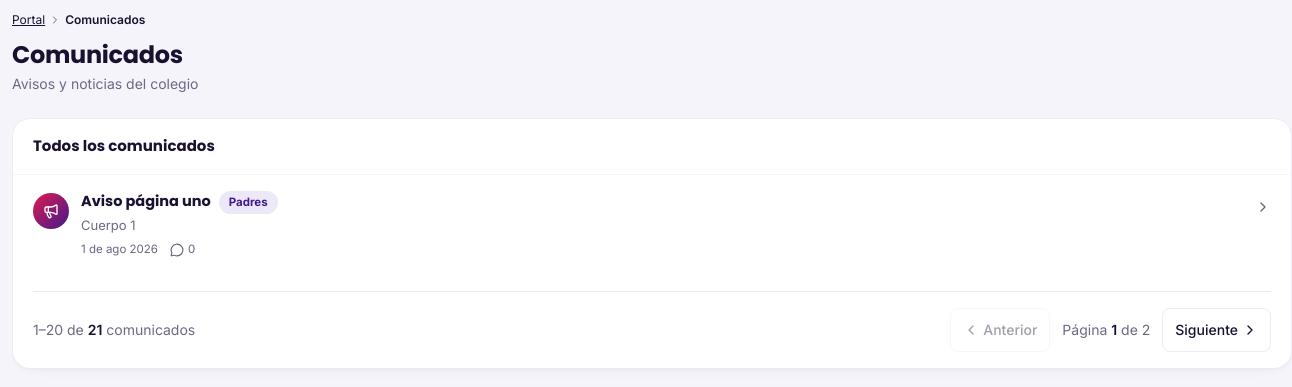
Scenario: ComunicadosPage › pages through announcements with Siguiente
Expected: the text "Aviso página uno" is shown, x1=81 y1=191 x2=211 y2=213
What coordinates should you click on to do the following:
click the button "Siguiente"
I would click on:
 (1217, 330)
Its box is x1=1162 y1=308 x2=1271 y2=352.
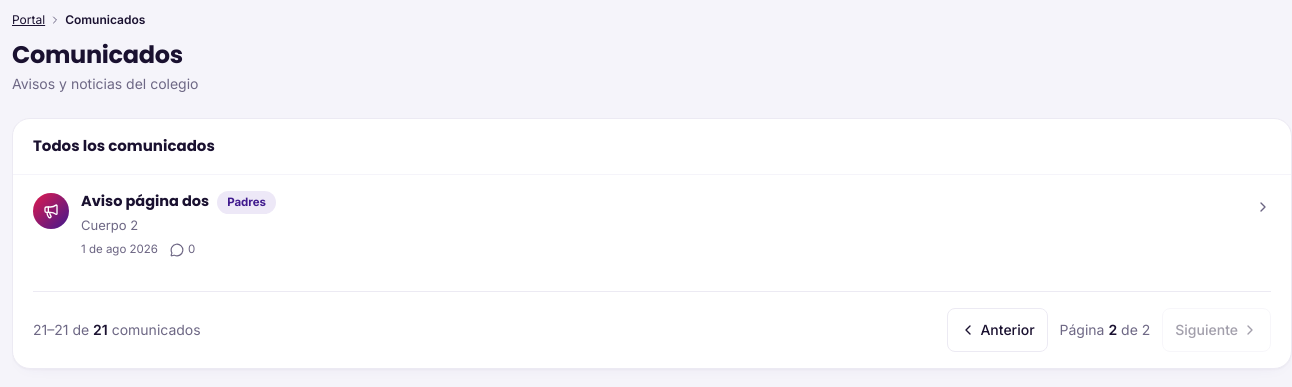
Expected: the text "Aviso página dos" is shown, x1=81 y1=191 x2=209 y2=213
